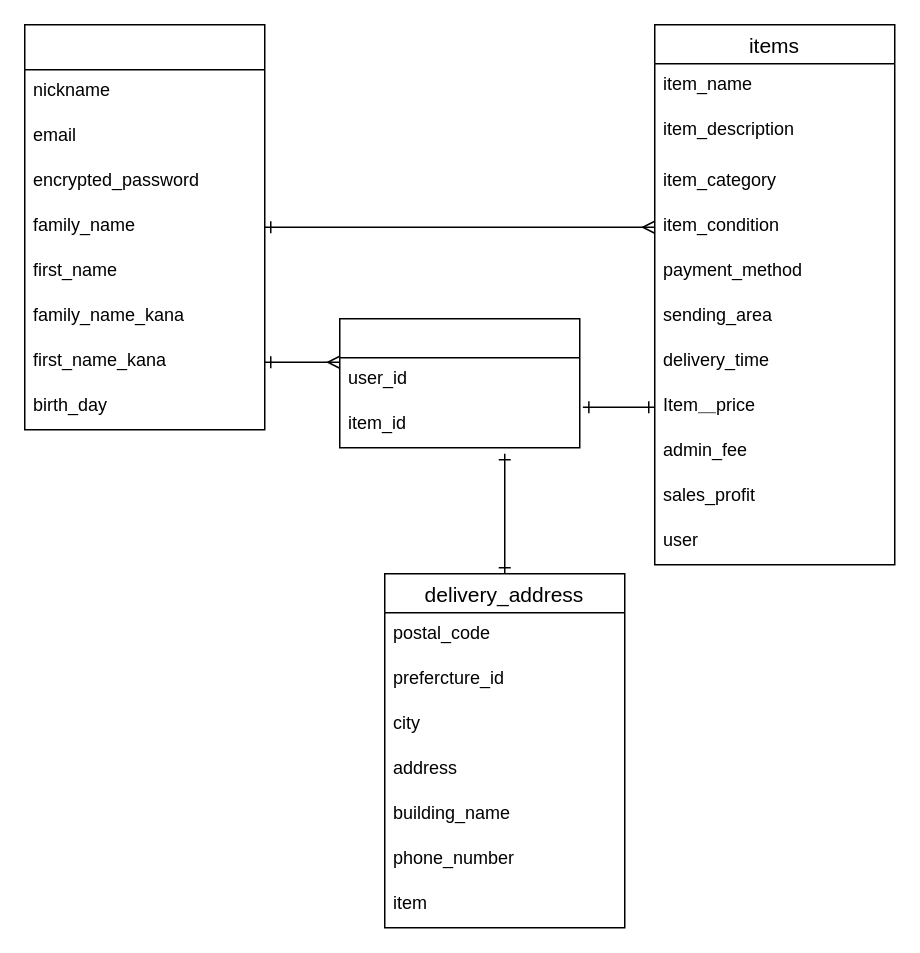
Image size: 920x953. Some labels were removed from this diagram. Each missing label, with the box of its shape:
purchase_record: (338, 317, 580, 448)
users: (23, 23, 265, 430)
